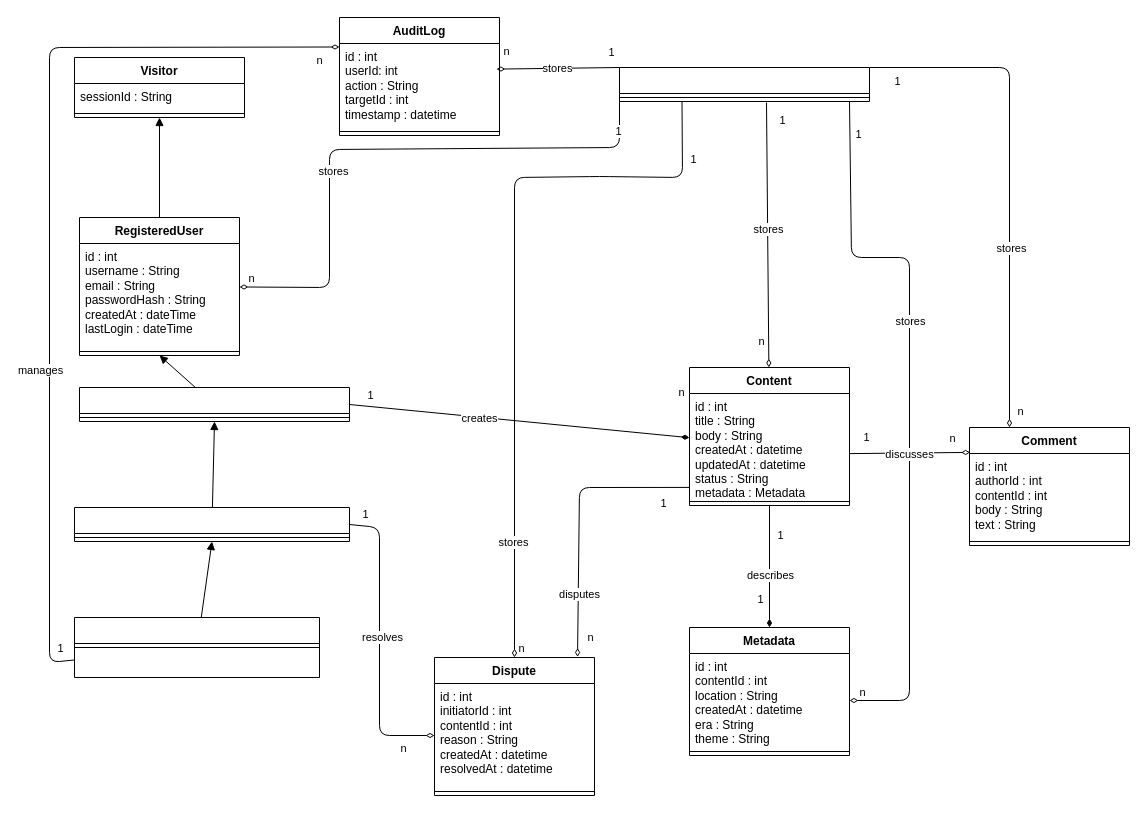
The diagram is 1147 pixels wide and 813 high, and some of its shapes have lost their labels. The shapes that lost their labels are listed below. From the top down, each one's centre as x and y in pixels, then its label:
At (744,84): "Database".
At (214,404): "Contributor".
At (212,524): "Moderator".
At (197,647): "Admin".
